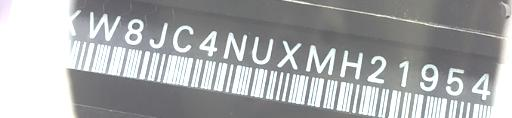letter: (88, 9, 120, 42), (304, 43, 336, 75), (222, 30, 248, 62), (276, 37, 302, 69), (338, 49, 364, 81), (250, 33, 274, 65), (55, 4, 79, 35), (419, 60, 439, 93), (471, 71, 493, 100), (172, 24, 194, 53), (444, 65, 464, 96), (198, 29, 218, 57), (366, 55, 386, 83), (124, 17, 144, 44), (150, 19, 168, 48), (498, 71, 510, 106), (398, 58, 410, 88)
